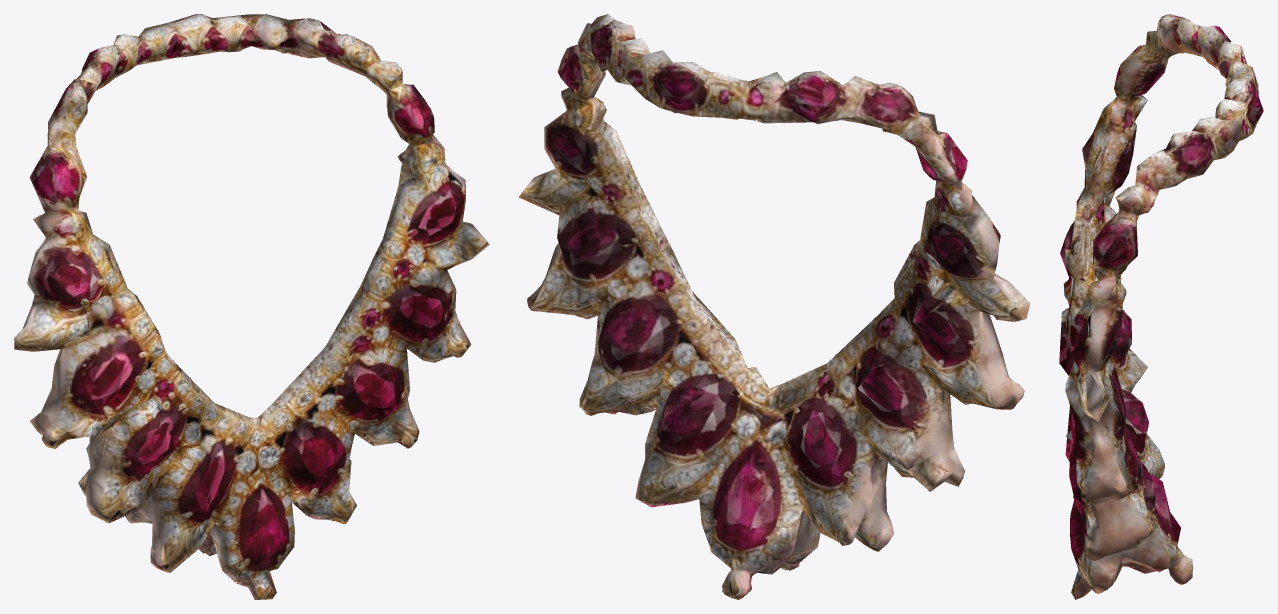
Rendered from outfit_jewel_necklace.glb.
The picture shows the model from 3 angles, left to right: view 1: azimuth 30°, elevation 25°; view 2: azimuth 150°, elevation 25°; view 3: azimuth 270°, elevation 25°; orthographic projection. The views are drawn at different scales.
Visible parts, largest first — view 1: outfit_jewel_necklace; view 2: outfit_jewel_necklace; view 3: outfit_jewel_necklace.
Part boxes in pixels (x1,y1,x2,y2): outfit_jewel_necklace: [14, 14, 489, 599]; outfit_jewel_necklace: [518, 14, 1030, 599]; outfit_jewel_necklace: [1059, 14, 1263, 599].
Size of the model in its own units: 0.2826 by 0.3001 by 0.1061.
1 material, 1 textured.
